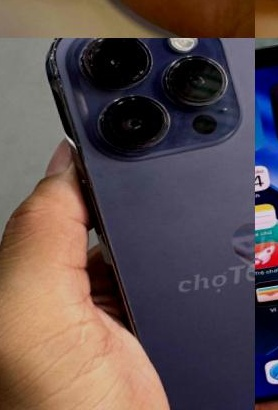scratch: (43, 40, 73, 90)
